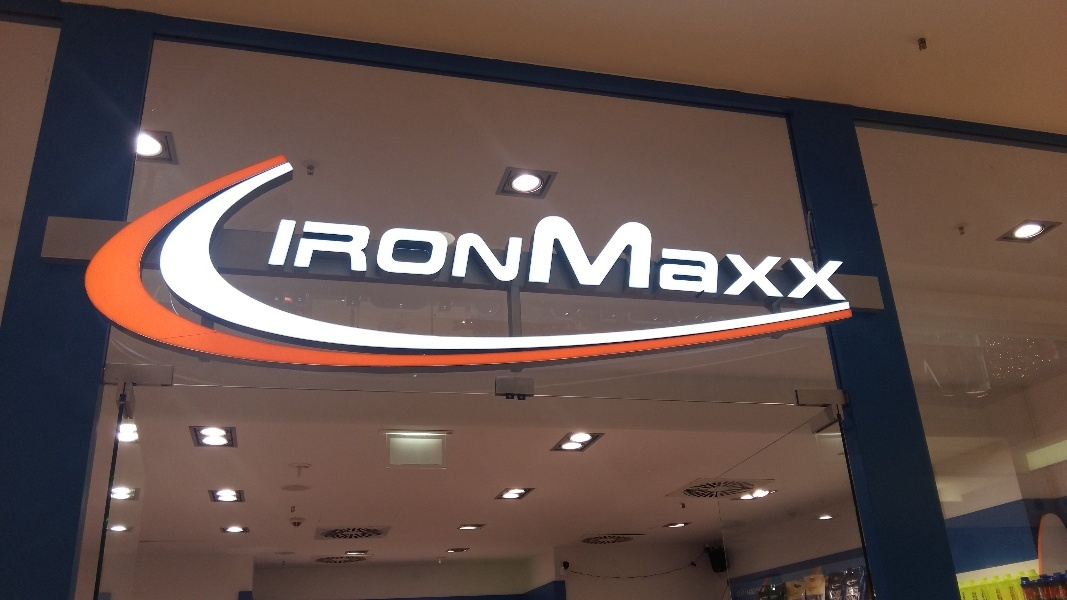text: (289, 198, 304, 304), (305, 198, 320, 304), (321, 198, 336, 304), (337, 198, 352, 304), (353, 198, 368, 304), (369, 198, 384, 304), (385, 198, 400, 304), (401, 198, 416, 304), (417, 198, 432, 304), (433, 198, 448, 304), (449, 198, 464, 304), (465, 198, 480, 304), (481, 198, 496, 304), (497, 198, 512, 304), (513, 198, 528, 304), (529, 198, 544, 304), (545, 198, 560, 304), (561, 198, 576, 304), (577, 198, 592, 304), (593, 198, 608, 304), (609, 198, 624, 304), (625, 198, 640, 304), (641, 198, 656, 304), (657, 198, 672, 304), (673, 198, 688, 304), (689, 198, 704, 304), (705, 198, 720, 304), (721, 198, 736, 304), (737, 198, 752, 304), (753, 198, 768, 304), (769, 198, 784, 304), (785, 198, 800, 304), (801, 198, 816, 304), (817, 198, 832, 304), (833, 198, 848, 304), (817, 587, 832, 600), (833, 587, 848, 600), (849, 587, 860, 600), (806, 587, 816, 600), (738, 588, 752, 597), (287, 198, 288, 304), (753, 588, 762, 597)
